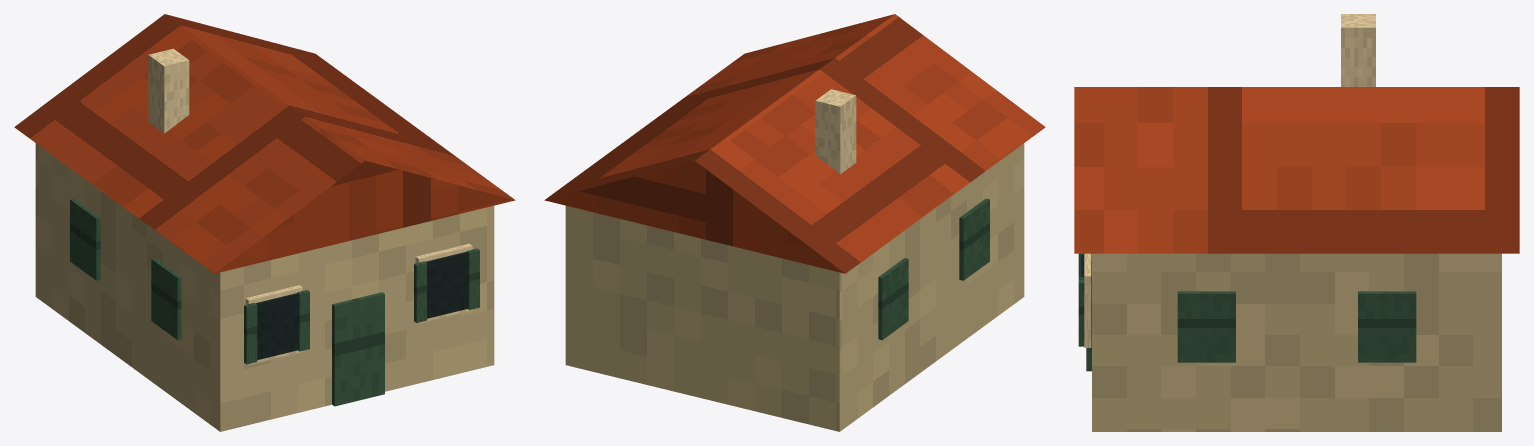
Rendered from House.fbx.
3 views of the same model, side by side, from view 1: azimuth 30°, elevation 25°; view 2: azimuth 150°, elevation 25°; view 3: azimuth 270°, elevation 25° (orthographic). The views are drawn at different scales.
Visible parts, largest first — view 1: Telhado duas águas.014, Paredes.014, Porta.014, Chaminé.012, Janela.040, Janela.041, Janela lateral.057, Janela lateral.056, Veneziana.080, Veneziana.082, Veneziana.081, Veneziana.083 (+2 smaller); view 2: Paredes.014, Telhado duas águas.014, Chaminé.012, Janela lateral.056, Janela lateral.057; view 3: Telhado duas águas.014, Paredes.014, Janela lateral.058, Janela lateral.059, Chaminé.012, Moldura.041, Veneziana.083.
Part boxes in pixels (left/top/right/bottom): Telhado duas águas.014: left=14, top=14, right=515, bottom=273; Paredes.014: left=35, top=143, right=494, bottom=431; Porta.014: left=332, top=292, right=384, bottom=406; Chaminé.012: left=148, top=48, right=189, bottom=133; Janela.040: left=255, top=293, right=298, bottom=359; Janela.041: left=425, top=251, right=468, bottom=318; Janela lateral.057: left=70, top=198, right=100, bottom=280; Janela lateral.056: left=151, top=258, right=181, bottom=340; Veneziana.080: left=244, top=303, right=257, bottom=364; Veneziana.082: left=414, top=261, right=426, bottom=322; Veneziana.081: left=297, top=290, right=309, bottom=351; Veneziana.083: left=467, top=248, right=479, bottom=309; Paredes.014: left=565, top=143, right=1024, bottom=431; Telhado duas águas.014: left=544, top=14, right=1045, bottom=273; Chaminé.012: left=815, top=89, right=856, bottom=173; Janela lateral.056: left=959, top=198, right=989, bottom=280; Janela lateral.057: left=878, top=258, right=908, bottom=340; Telhado duas águas.014: left=1074, top=87, right=1519, bottom=253; Paredes.014: left=1092, top=253, right=1501, bottom=431; Janela lateral.058: left=1177, top=291, right=1235, bottom=362; Janela lateral.059: left=1358, top=291, right=1416, bottom=362; Chaminé.012: left=1341, top=14, right=1375, bottom=86; Moldura.041: left=1084, top=253, right=1091, bottom=347; Veneziana.083: left=1078, top=277, right=1084, bottom=346.
Bounding box in the file's own units: 660 × 565 × 760.
5 materials, 5 textured.
